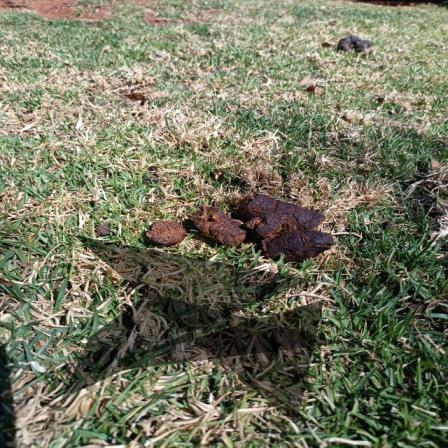dog-poop: (141, 184, 329, 267), (334, 32, 376, 57)
